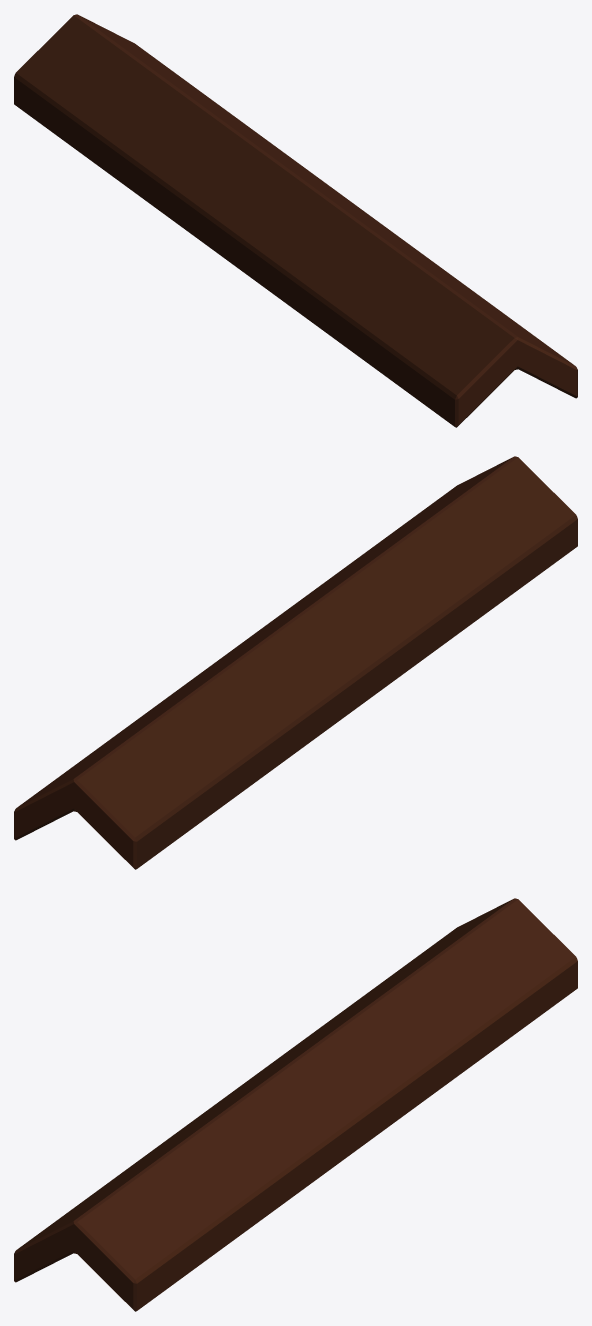
Rendered from A14_Roof_Ridge_2m.fbx.
The picture shows the model from 3 angles, top to bottom: view 1: azimuth 30°, elevation 25°; view 2: azimuth 150°, elevation 25°; view 3: azimuth 330°, elevation 25°; orthographic projection.
Parts seen in each view (by area): view 1: A14_Roof_Ridge_2m; view 2: A14_Roof_Ridge_2m; view 3: A14_Roof_Ridge_2m.
Part boxes in pixels (x1,y1,x2,y2): A14_Roof_Ridge_2m: [14, 14, 577, 427]; A14_Roof_Ridge_2m: [14, 456, 577, 869]; A14_Roof_Ridge_2m: [14, 898, 577, 1311].
Size of the model in its own units: 0.32 by 0.188 by 2.
Materials: 1 (1 with a texture image).
